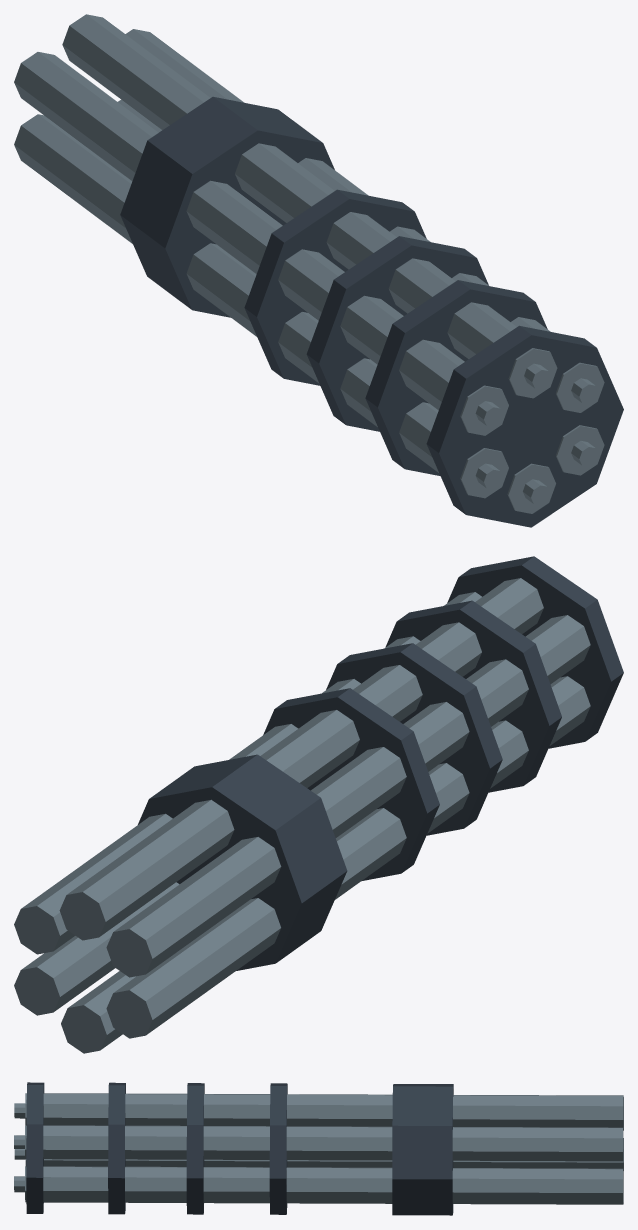
File: minigun_barrel.fbx
The picture shows the model from 3 angles, top to bottom: view 1: azimuth 30°, elevation 25°; view 2: azimuth 150°, elevation 25°; view 3: azimuth 270°, elevation 25°; orthographic projection. The views are drawn at different scales.
Parts seen in each view (by area): view 1: minigun_barrel; view 2: minigun_barrel; view 3: minigun_barrel.
Boxes of the visible parts, x1,y1,x2,y2 form: minigun_barrel: (14,14,623,527); minigun_barrel: (14,556,623,1053); minigun_barrel: (14,1082,623,1215).
Bounding box in the file's own units: 0.1486 × 0.1446 × 0.6312.
